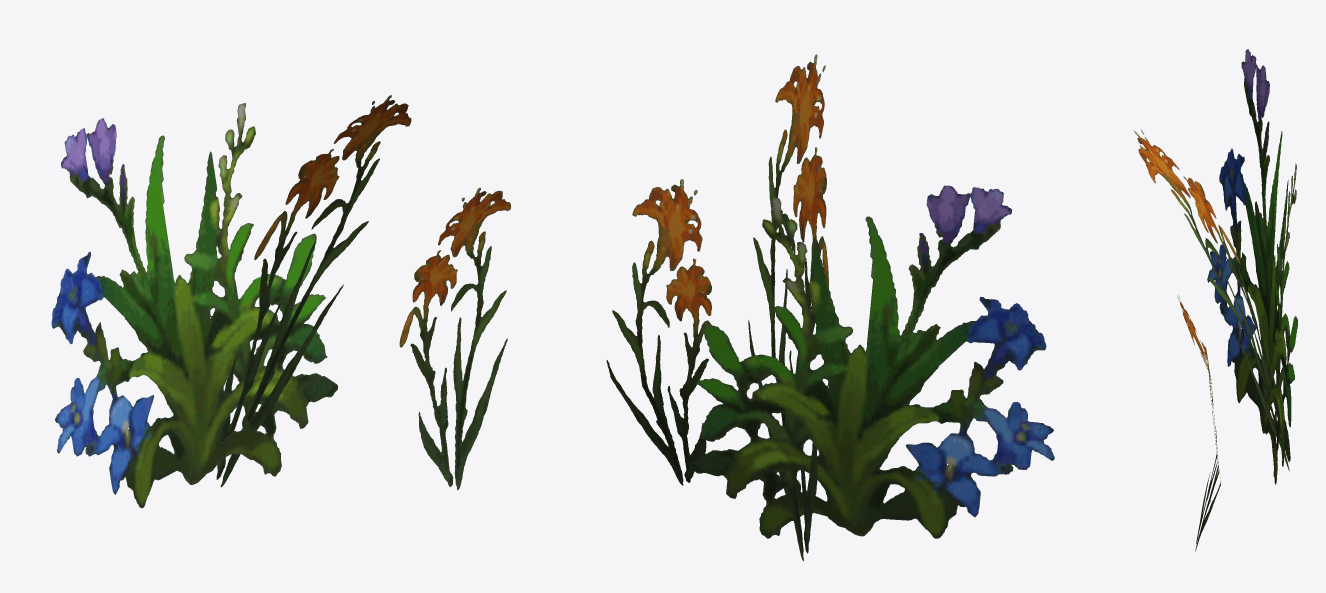
Rendered from xl_huacao_3.FBX.
The picture shows the model from 3 angles, left to right: view 1: azimuth 30°, elevation 25°; view 2: azimuth 150°, elevation 25°; view 3: azimuth 270°, elevation 25°; orthographic projection. The views are drawn at different scales.
Parts seen in each view (by area): view 1: xl_huacao_3; view 2: xl_huacao_3; view 3: xl_huacao_3.
Part boxes in pixels (x1=…): xl_huacao_3: x1=51, y1=95, x2=510, y2=508; xl_huacao_3: x1=606, y1=54, x2=1054, y2=560; xl_huacao_3: x1=1134, y1=49, x2=1297, y2=550.
Size of the model in its own units: 954 by 846 by 386.
